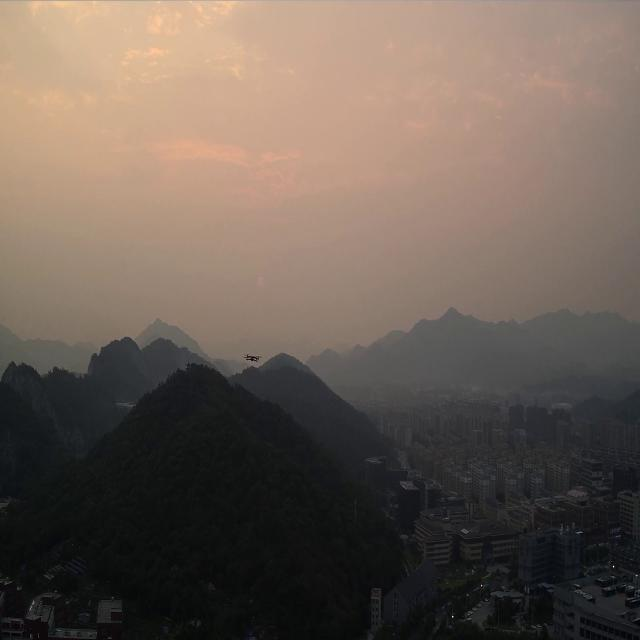UAV: (242, 354, 262, 362)
